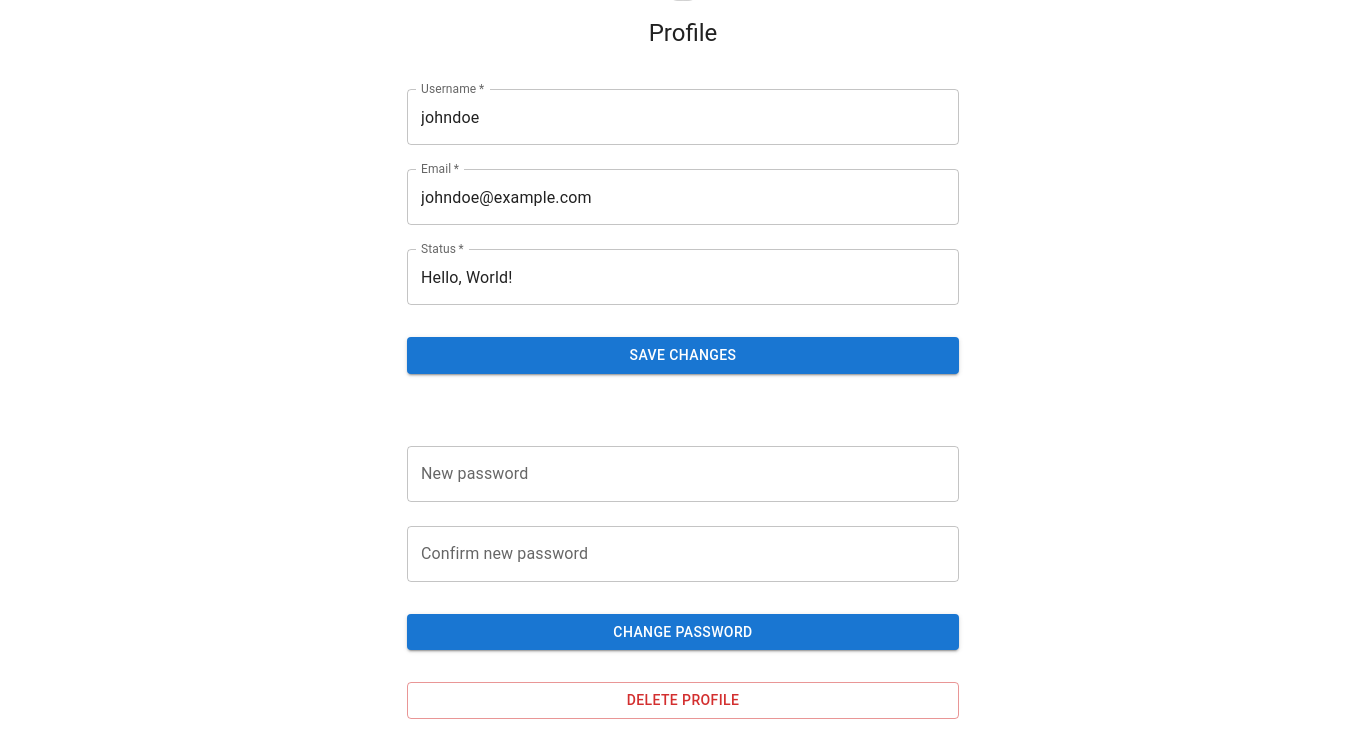
Test: ProfileView › opens the delete dialog on button click
(page scrolled)
Click the button "Delete profile".
click(683, 700)  # box [407,682,959,718]
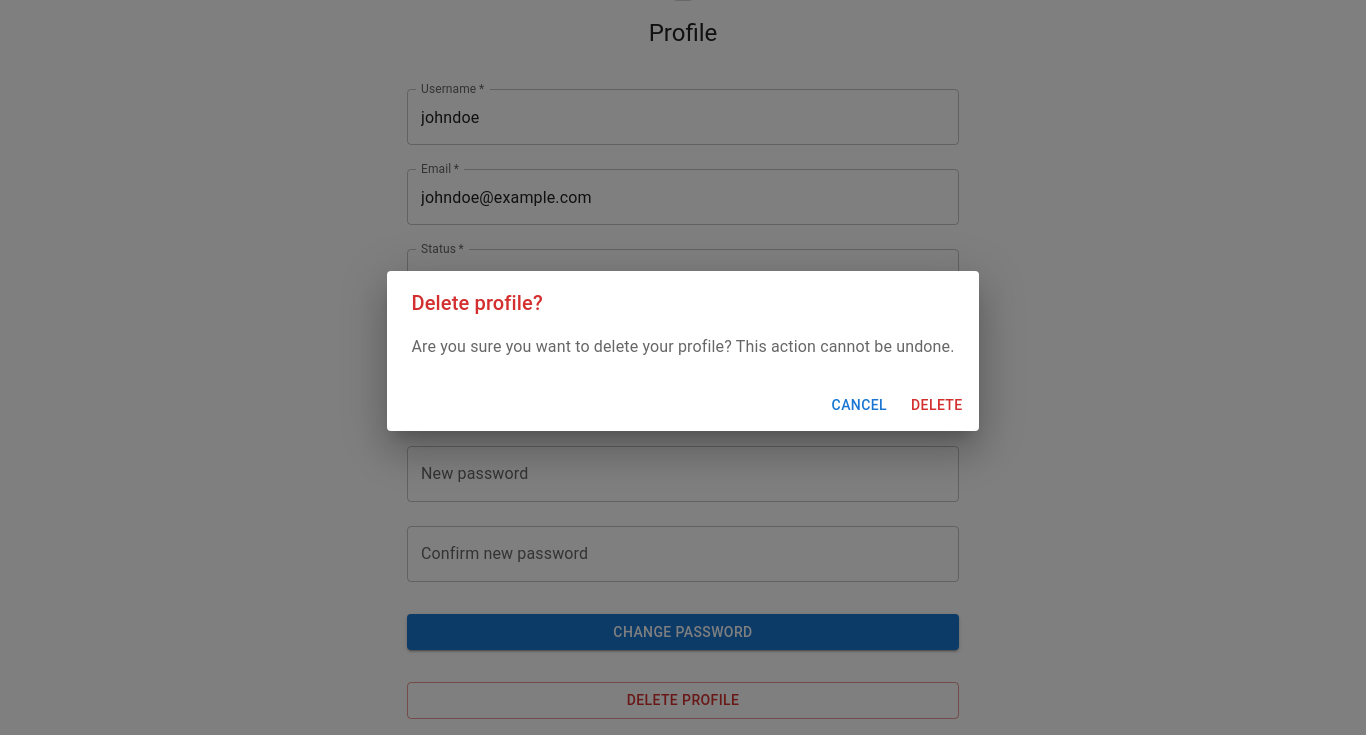
Now the dialog is shown, box [387,271,979,431]
